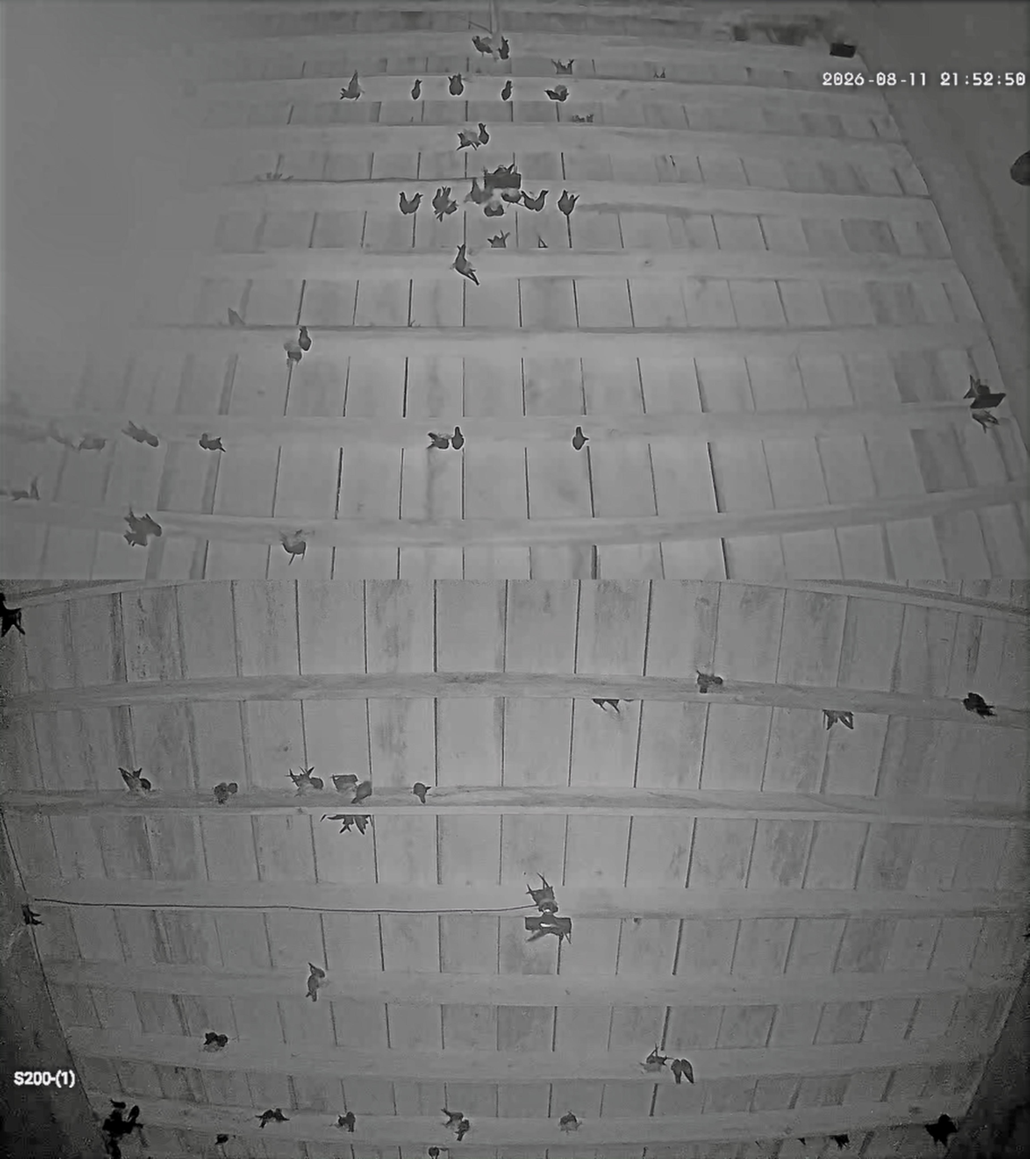swallow bird: (101, 1100, 142, 1156), (524, 914, 571, 945), (963, 376, 1005, 410), (125, 507, 162, 545), (452, 243, 479, 286), (925, 1114, 958, 1146), (122, 421, 159, 447), (47, 419, 78, 450), (288, 766, 323, 793), (527, 874, 555, 906), (542, 915, 571, 945), (119, 767, 152, 793), (281, 531, 306, 565), (433, 187, 457, 222), (962, 692, 995, 717), (8, 476, 40, 501), (642, 1044, 671, 1070), (0, 609, 26, 637), (306, 963, 325, 1001), (524, 915, 550, 942), (971, 391, 1006, 411), (465, 177, 490, 204), (257, 1108, 288, 1129), (696, 670, 723, 694), (321, 814, 355, 833), (823, 709, 853, 730), (963, 375, 989, 399), (521, 189, 549, 211), (8, 391, 31, 417), (971, 409, 998, 431), (340, 70, 361, 98), (671, 1059, 694, 1084), (558, 190, 578, 218), (16, 427, 51, 443), (75, 434, 107, 451), (494, 162, 521, 182), (283, 339, 302, 367), (472, 34, 495, 57), (214, 782, 238, 804), (203, 1031, 228, 1052), (351, 780, 372, 805), (254, 168, 293, 181), (400, 191, 422, 214), (524, 915, 548, 936), (199, 432, 225, 451), (332, 774, 358, 792), (456, 131, 479, 151), (336, 1111, 356, 1133), (22, 904, 42, 926), (441, 1108, 464, 1127), (572, 426, 589, 451), (123, 530, 148, 547), (559, 1111, 579, 1132), (593, 698, 618, 714), (412, 782, 430, 804), (426, 432, 449, 449), (545, 85, 568, 102), (551, 58, 574, 75), (500, 188, 522, 205), (298, 326, 312, 352), (352, 815, 370, 835), (488, 232, 510, 248), (456, 1117, 470, 1142), (451, 425, 465, 450), (449, 73, 464, 95), (228, 308, 245, 327), (641, 1060, 665, 1073), (670, 1060, 682, 1085), (484, 202, 504, 217), (830, 1134, 848, 1150), (538, 901, 558, 915), (478, 123, 490, 145), (498, 37, 509, 60), (501, 80, 513, 101), (572, 113, 593, 123), (411, 79, 421, 99), (592, 698, 608, 710), (320, 814, 347, 821), (427, 1146, 441, 1159), (215, 1133, 229, 1146), (110, 1100, 126, 1111), (110, 1101, 126, 1110), (653, 68, 666, 79), (536, 238, 549, 249), (572, 114, 585, 123), (1023, 926, 1030, 940), (796, 1137, 806, 1146), (585, 113, 594, 123), (0, 488, 11, 495)
